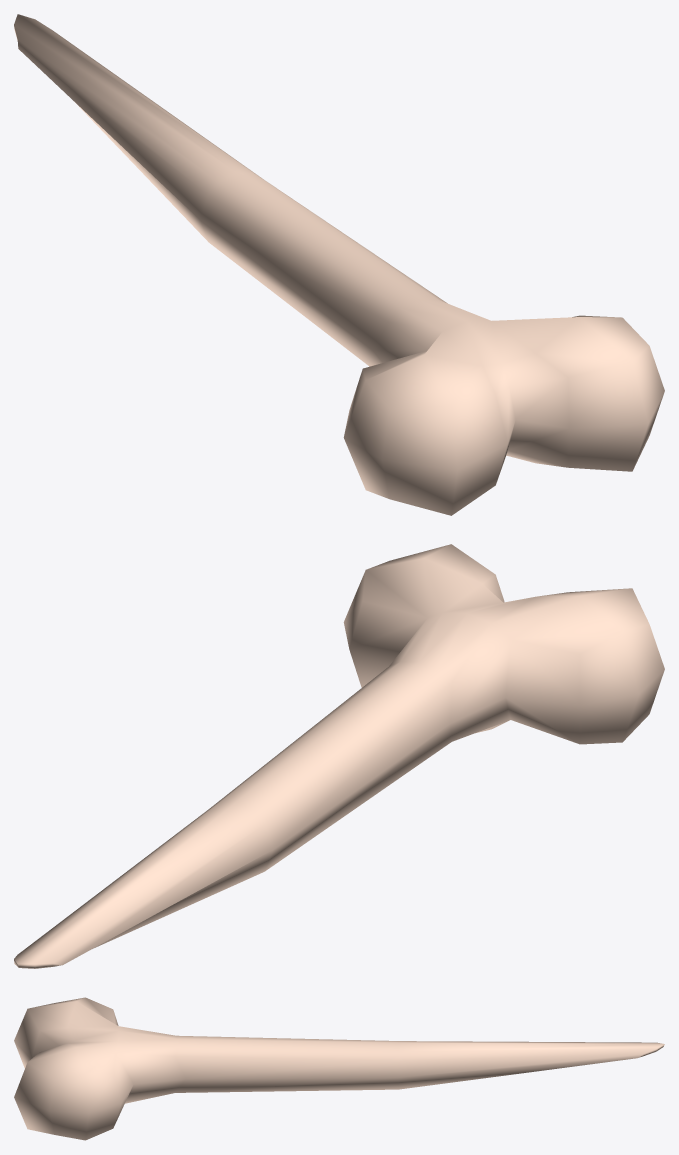
Rendered from BoneKnife.fbx.
3 views of the same model, one above another, from view 1: azimuth 30°, elevation 25°; view 2: azimuth 150°, elevation 25°; view 3: azimuth 270°, elevation 25° (orthographic). The views are drawn at different scales.
Visible parts, largest first — view 1: BoneKnife; view 2: BoneKnife; view 3: BoneKnife.
Part boxes in pixels (x1,y1,x2,y2): BoneKnife: (14,14,664,515); BoneKnife: (14,544,664,968); BoneKnife: (14,997,664,1140).
Size of the model in its own units: 10.95 by 5.21 by 34.4.
